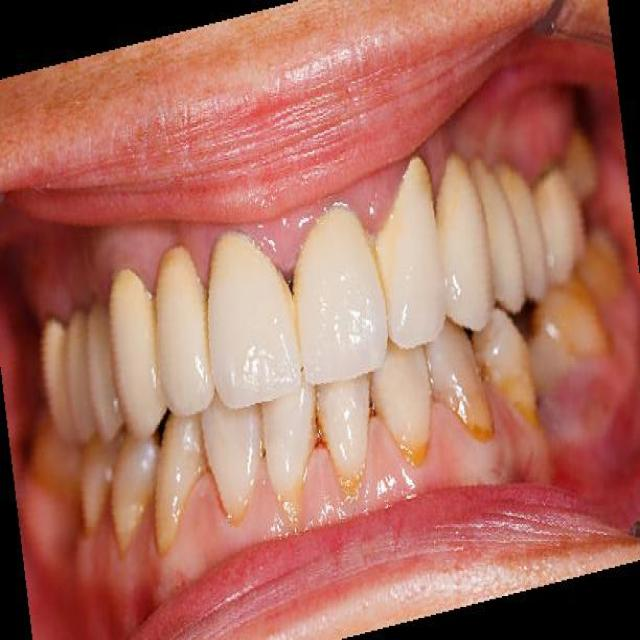caries: (270, 245, 309, 305), (359, 384, 384, 428)
